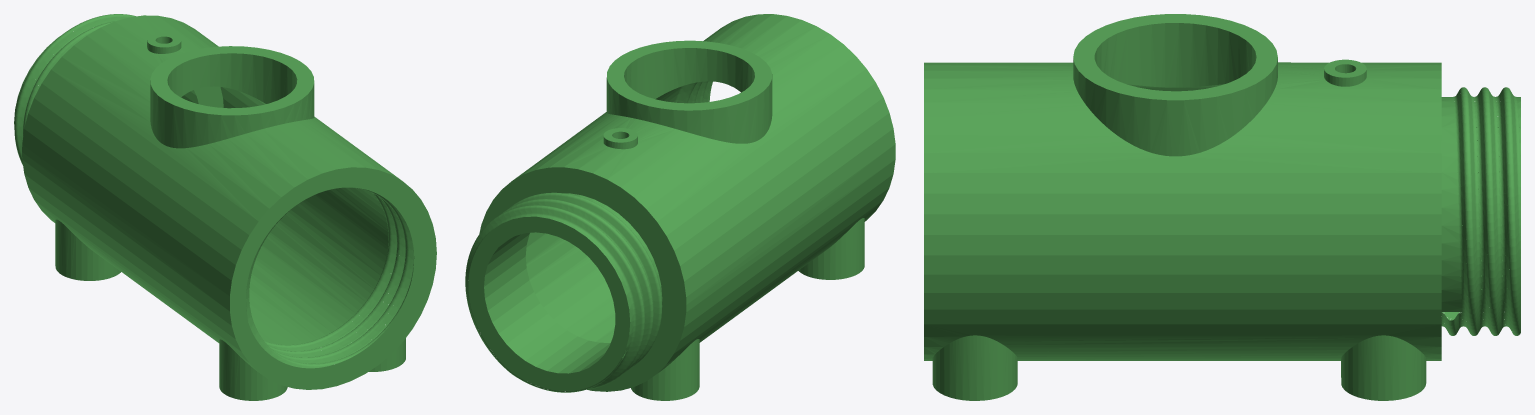
Rendered from HOME_airpump.glb.
The picture shows the model from 3 angles, left to right: view 1: azimuth 30°, elevation 25°; view 2: azimuth 150°, elevation 25°; view 3: azimuth 270°, elevation 25°; orthographic projection. The views are drawn at different scales.
Visible parts, largest first — view 1: world; view 2: world; view 3: world.
Boxes of the visible parts, left/top/right/bottom form: world: left=14, top=14, right=436, bottom=400; world: left=465, top=14, right=895, bottom=400; world: left=924, top=14, right=1520, bottom=400.
Bounding box in the file's own units: 88.9 × 95.25 × 178.
